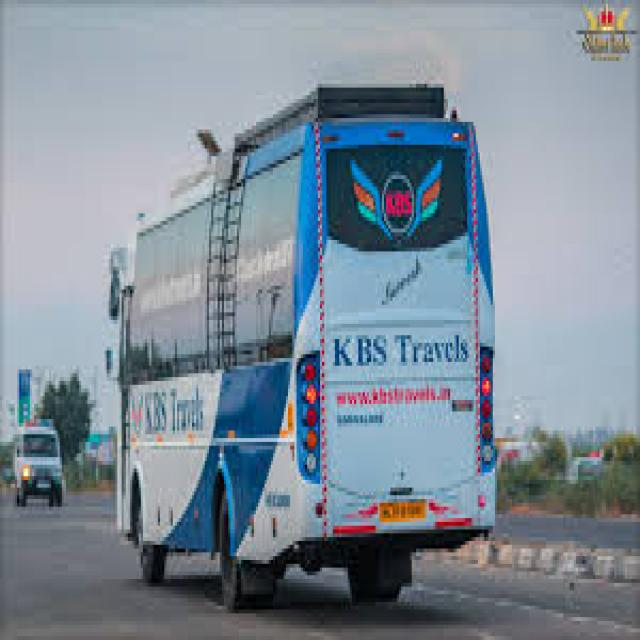bus: (76, 59, 554, 628)
